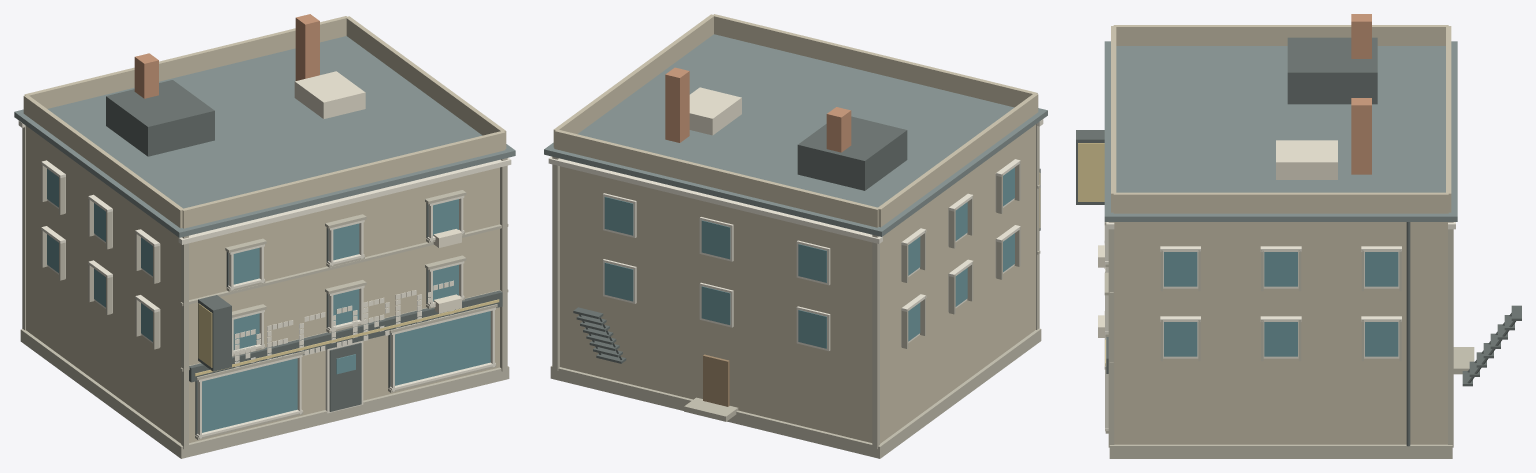
The picture shows the model from 3 angles, left to right: view 1: azimuth 30°, elevation 25°; view 2: azimuth 150°, elevation 25°; view 3: azimuth 270°, elevation 25°; orthographic projection. The views are drawn at different scales.
Size of the model in its own units: 16.1 by 13.44 by 17.3.
